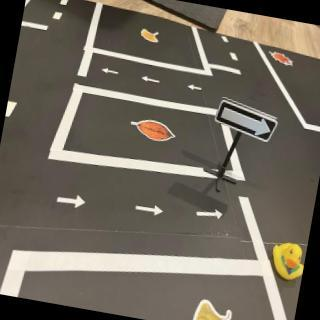duck_regular: (268, 239, 309, 285)
road_oneway: (55, 191, 90, 214), (134, 201, 169, 224), (195, 204, 228, 226), (140, 75, 164, 88), (100, 67, 122, 80), (187, 83, 206, 96)
sign_oneway_right: (212, 96, 283, 146)
